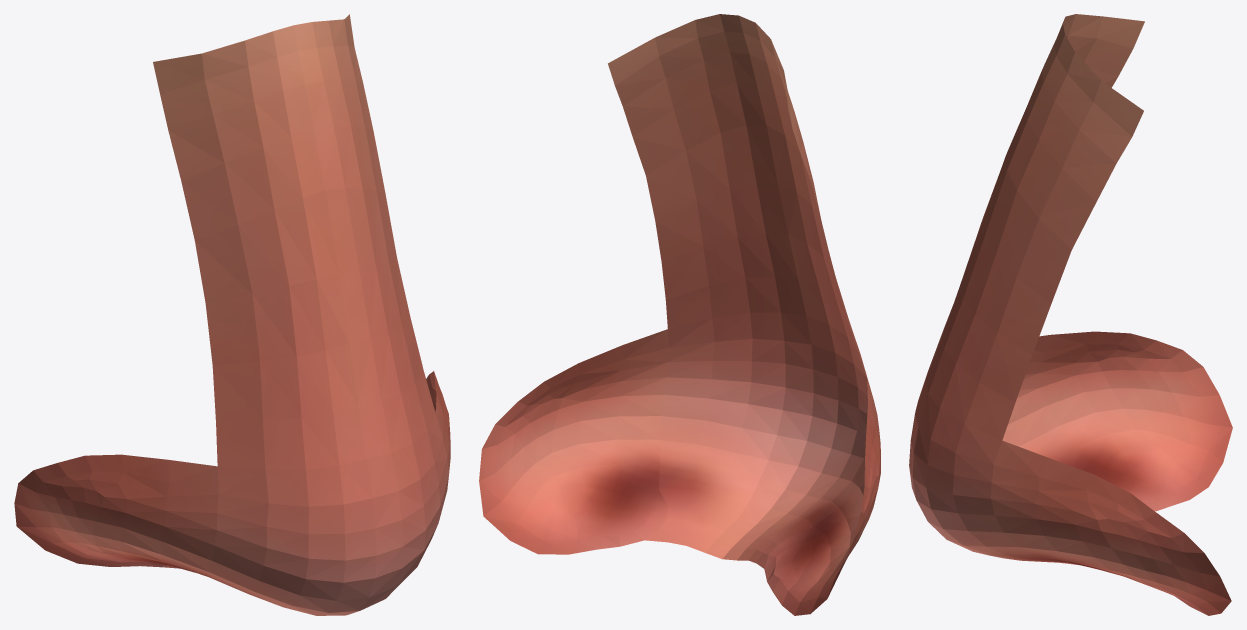
File: euro-nose-sellion-deep.obj
3 renders of one model, left to right at view 1: azimuth 30°, elevation 25°; view 2: azimuth 150°, elevation 25°; view 3: azimuth 270°, elevation 25°, orthographic. The views are drawn at different scales.
Parts seen in each view (by area): view 1: euro-nose-sellion-dee.001; view 2: euro-nose-sellion-dee.001; view 3: euro-nose-sellion-dee.001.
Boxes of the visible parts, x1=… form: euro-nose-sellion-dee.001: x1=14, y1=14, x2=450, y2=615; euro-nose-sellion-dee.001: x1=479, y1=14, x2=880, y2=615; euro-nose-sellion-dee.001: x1=909, y1=14, x2=1232, y2=615.
Size of the model in its own units: 0.2544 by 0.3472 by 0.1881.
Materials: 1 (1 with a texture image).
